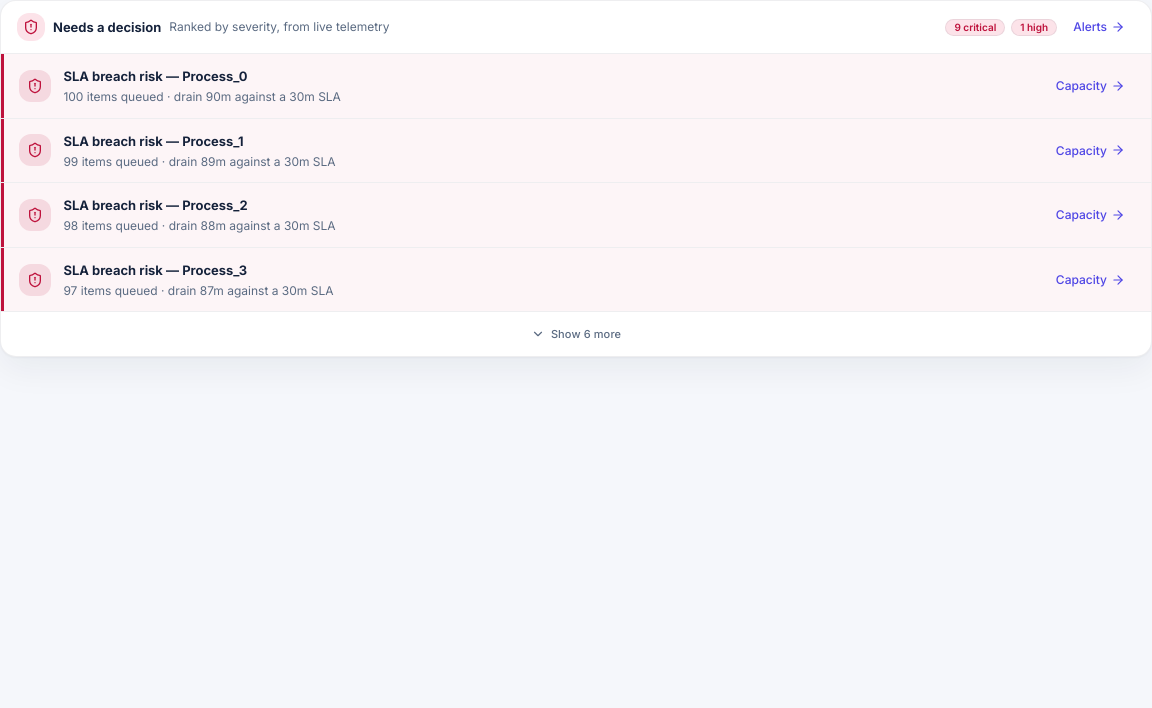
Test: triage queue › collapses a long queue and expands it on demand
Expected: the number of elements with class "triage-row" is 4, [1, 54, 1151, 118]; [1, 119, 1151, 182]; [1, 183, 1151, 247]; [1, 248, 1151, 311]
Click the button "Show 6 more". click: (576, 334)
box: [523, 320, 629, 348]
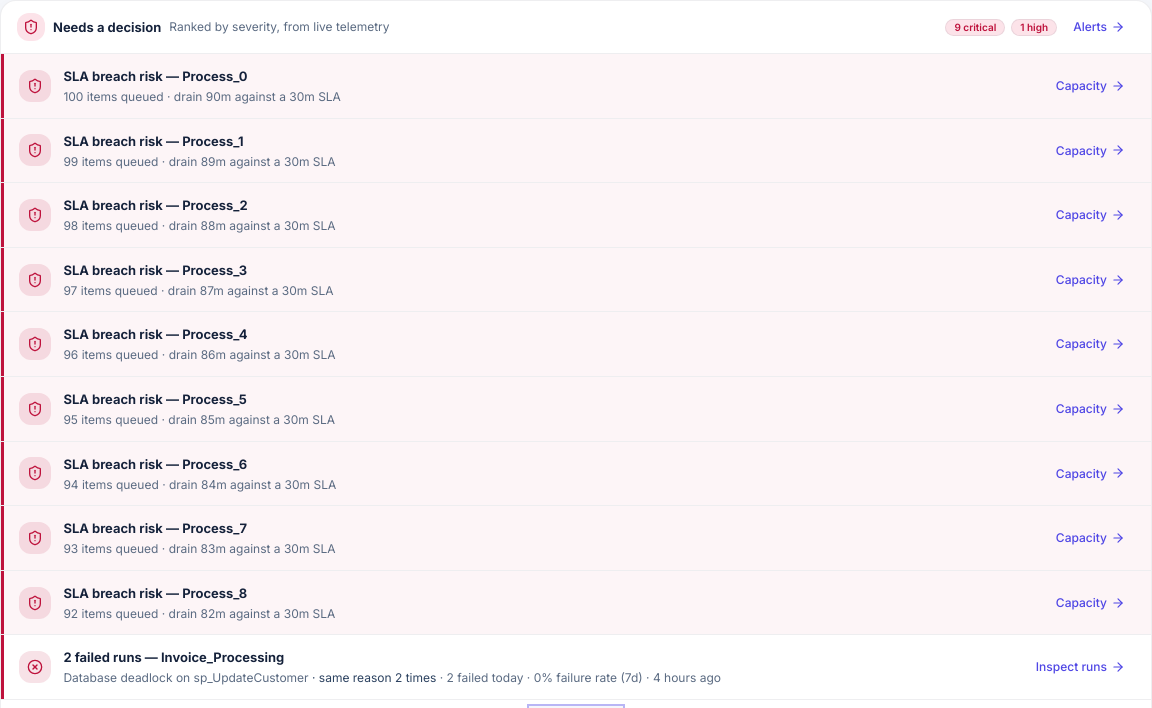
Now the number of elements with class "triage-row" is 10
